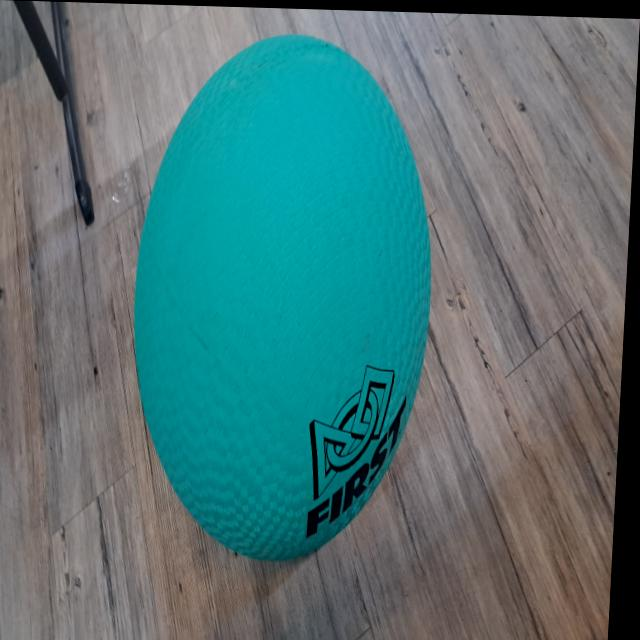ALGAE: (119, 28, 446, 567)
